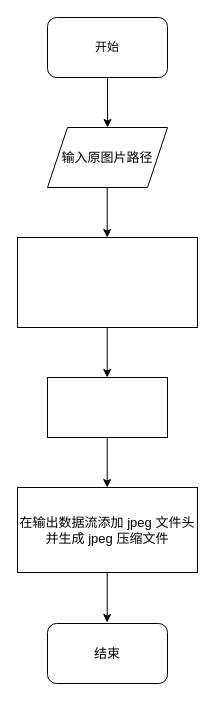
Image size: 215x701. Some labels were removed from this diagram. Here are the shapes that lost their labels. From the top down, the centre of each, then its label:
At [107,282]: "将原图片转换为数据流并写入verilog文件作为 jpegencode 的输入".
At [107,407]: "jpeg 压缩".
